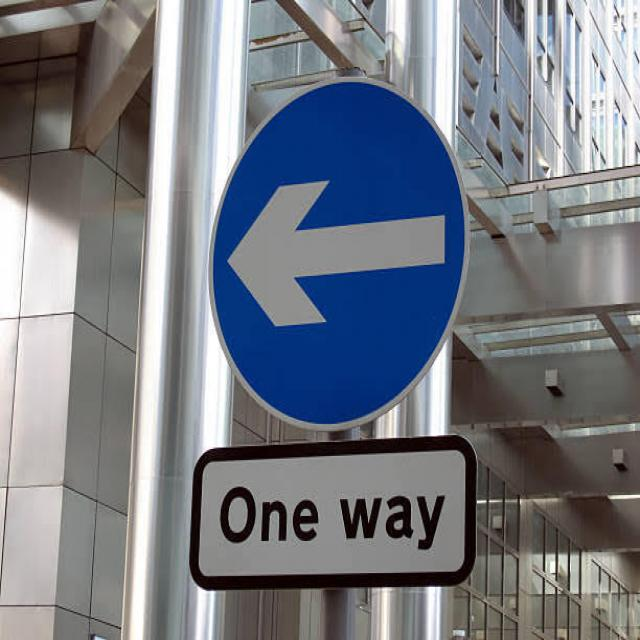Turn Left: (201, 82, 468, 436)
